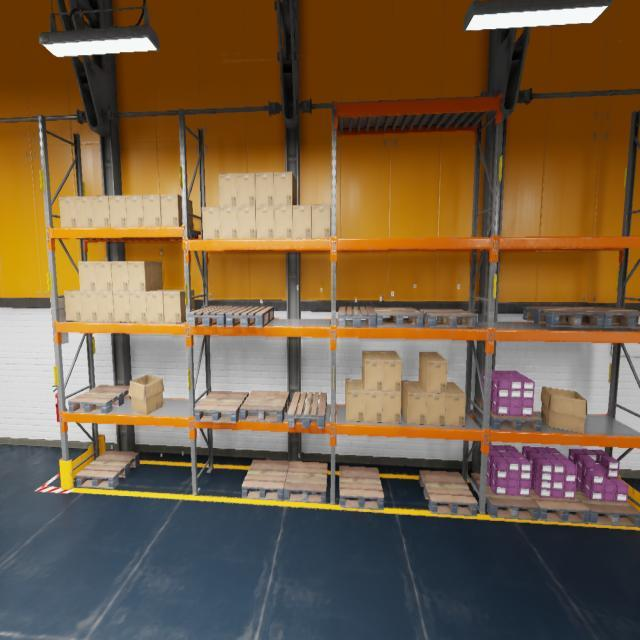box: (542, 386, 590, 433), (127, 375, 167, 413), (420, 352, 449, 395), (361, 350, 385, 392), (344, 376, 365, 424), (406, 380, 426, 423), (218, 171, 238, 208), (426, 392, 447, 426), (59, 194, 79, 229), (275, 204, 293, 242), (256, 205, 275, 240), (447, 392, 466, 427), (363, 391, 383, 424), (384, 357, 402, 392), (79, 196, 97, 230), (203, 206, 221, 240), (162, 194, 181, 226), (293, 206, 312, 238), (238, 204, 255, 239), (275, 171, 293, 204), (114, 290, 132, 323), (256, 173, 273, 206), (313, 207, 330, 240), (220, 207, 238, 238), (384, 391, 402, 422), (132, 291, 149, 323), (111, 196, 127, 229), (238, 174, 255, 205), (94, 262, 112, 291), (129, 261, 147, 290), (79, 259, 95, 291), (127, 196, 144, 226), (83, 292, 98, 325), (113, 261, 129, 290), (68, 291, 83, 321), (145, 198, 161, 226), (151, 292, 165, 324), (99, 293, 114, 322), (166, 295, 182, 322), (98, 194, 110, 228)
